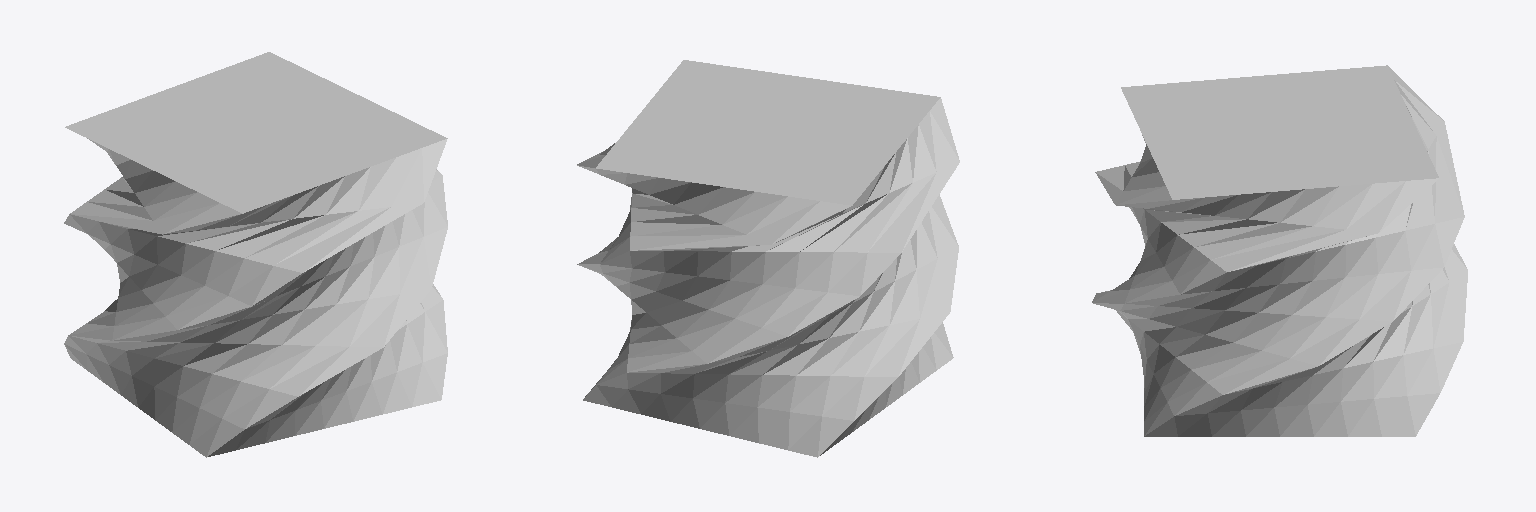
The model's file is twisted01.obj.
The picture shows the model from 3 angles: view 1: azimuth 30°, elevation 25°; view 2: azimuth 150°, elevation 25°; view 3: azimuth 270°, elevation 25°; orthographic projection.
Size of the model in its own units: 11.08 by 8 by 11.08.